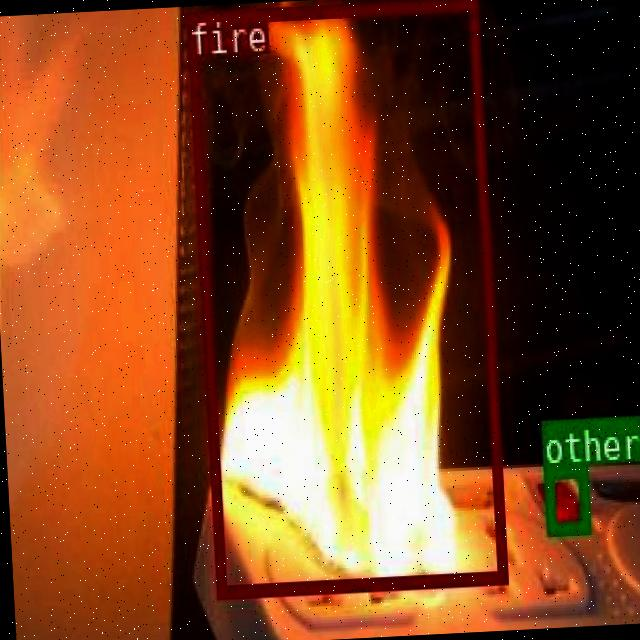fire: (185, 0, 504, 594)
